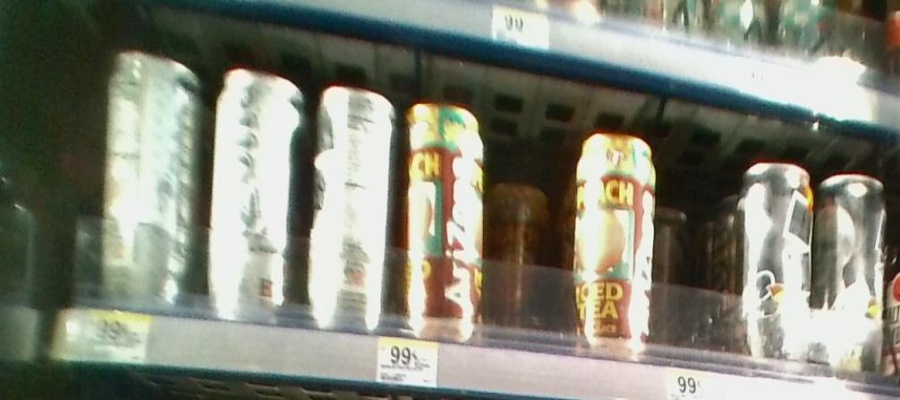bottle: (96, 40, 203, 309), (208, 57, 306, 329), (310, 75, 396, 331), (402, 90, 487, 339), (736, 141, 814, 375), (575, 128, 656, 351), (817, 157, 887, 375), (490, 161, 549, 342)
